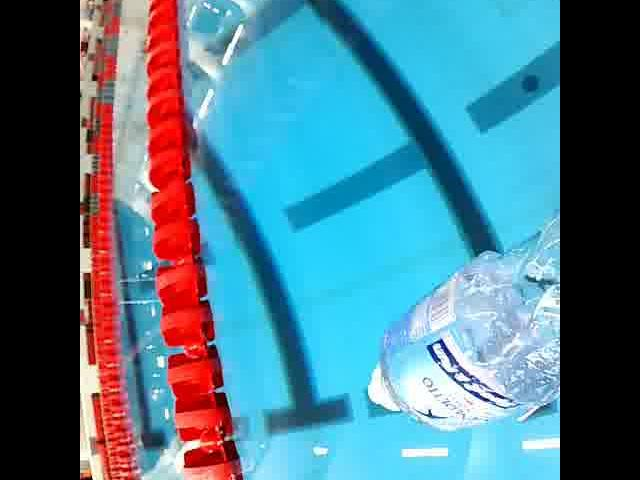Bottle: (360, 214, 560, 436)
